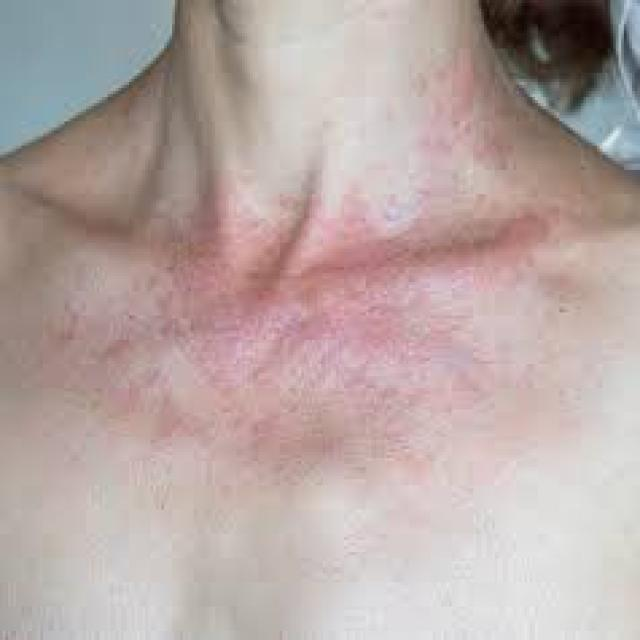Acanthosis Nigricans: (9, 28, 627, 527)
